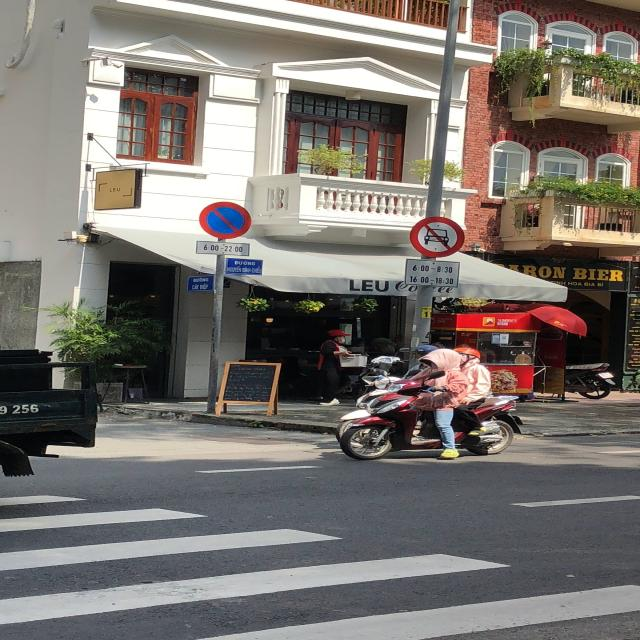Bien bao cam do xe: (196, 199, 258, 243)
Bien bao cam xe oto: (403, 213, 474, 260)
